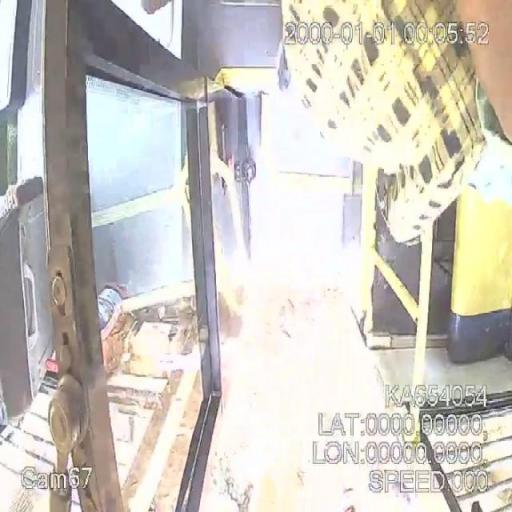persona: (278, 0, 511, 364)
